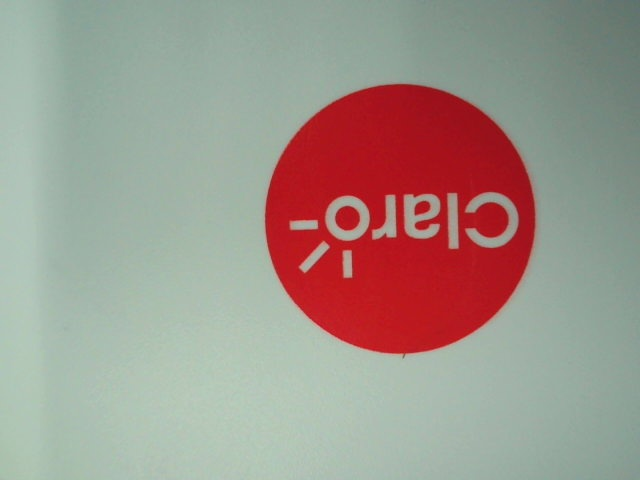BC_ClaorRed: (257, 81, 543, 361)
